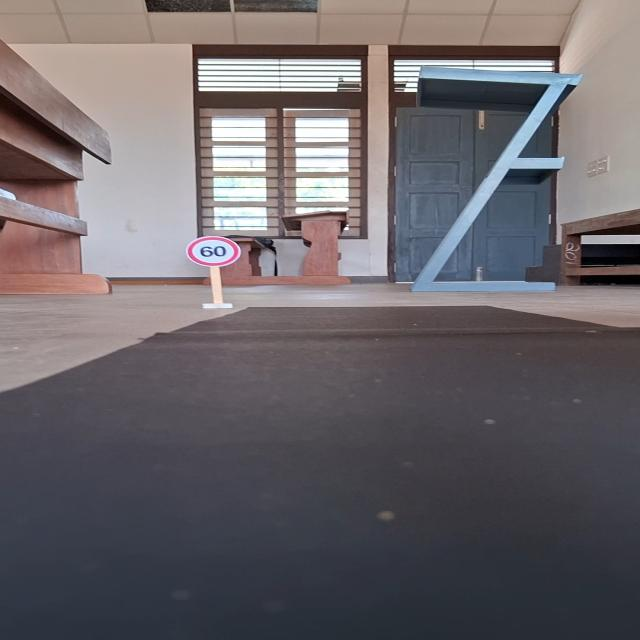Speed60: (185, 235, 242, 268)
